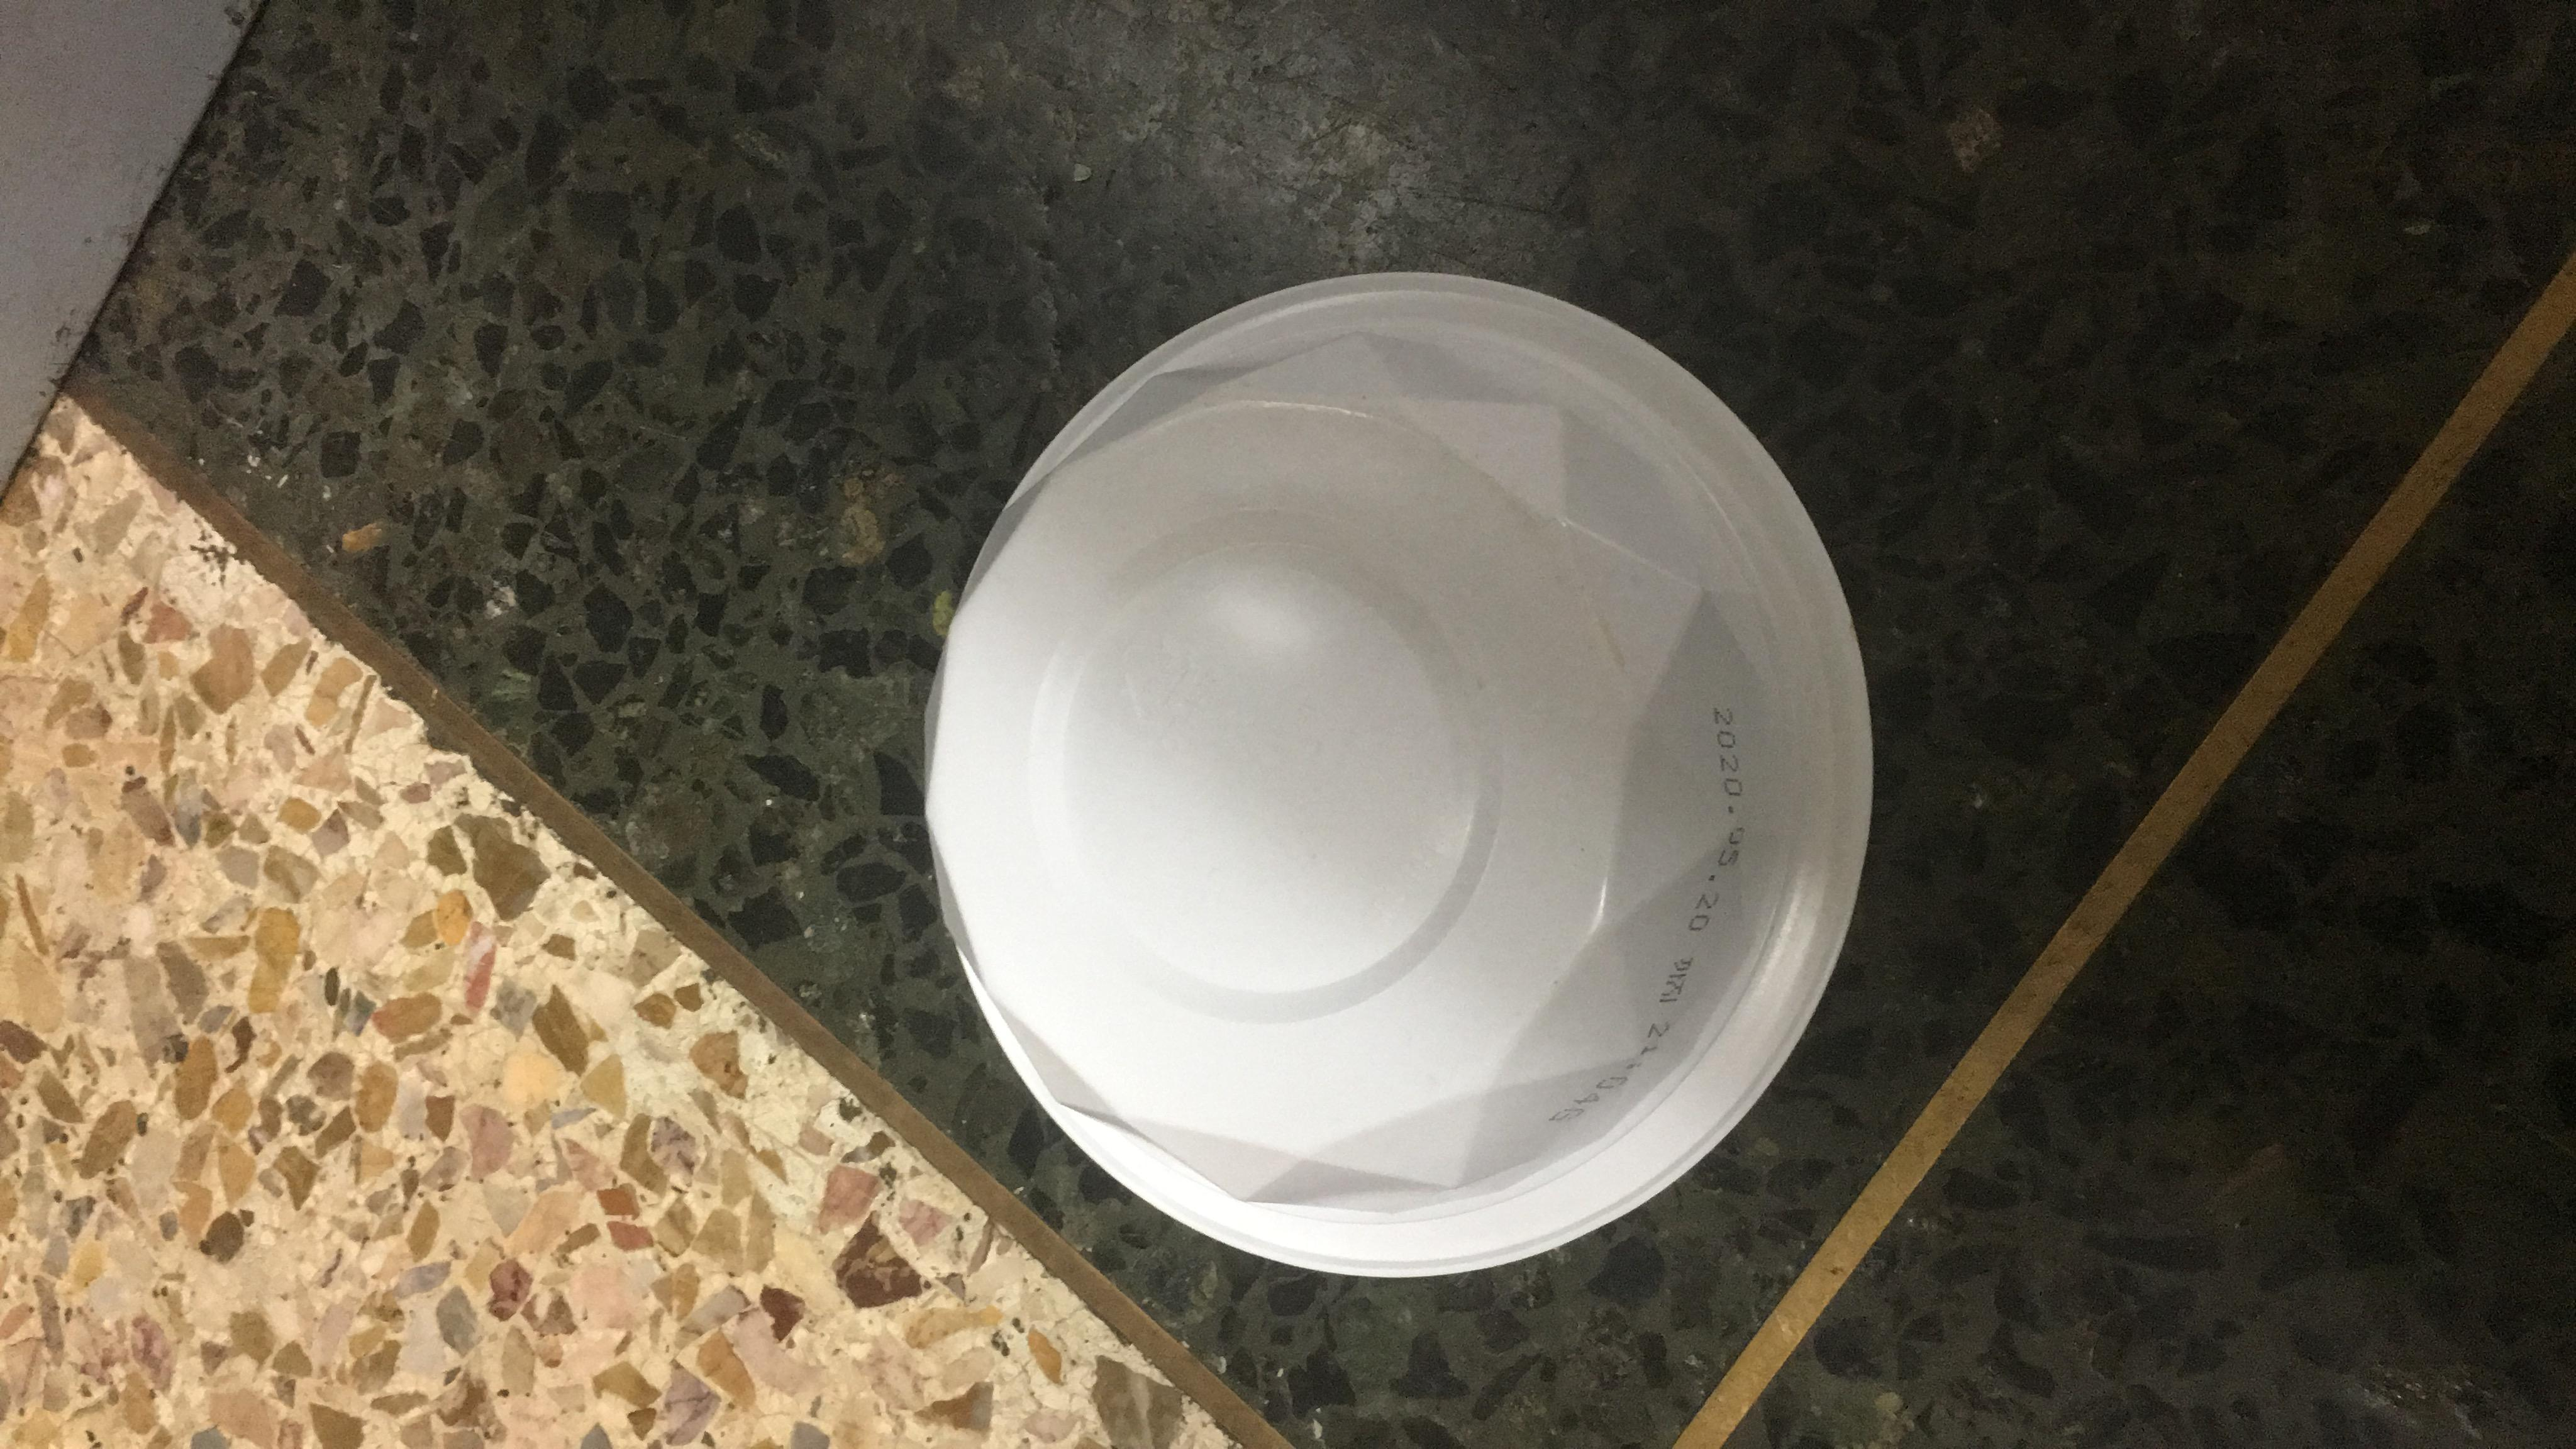bottle: (409, 564, 2118, 1008)
